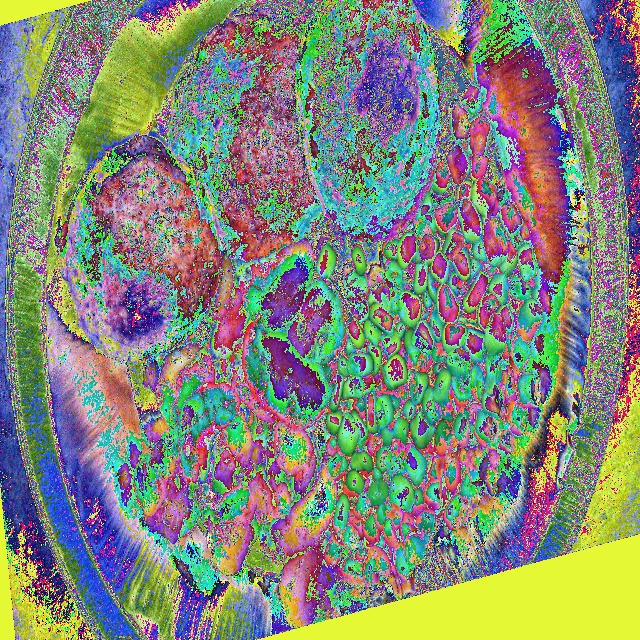background: (59, 0, 543, 630)
